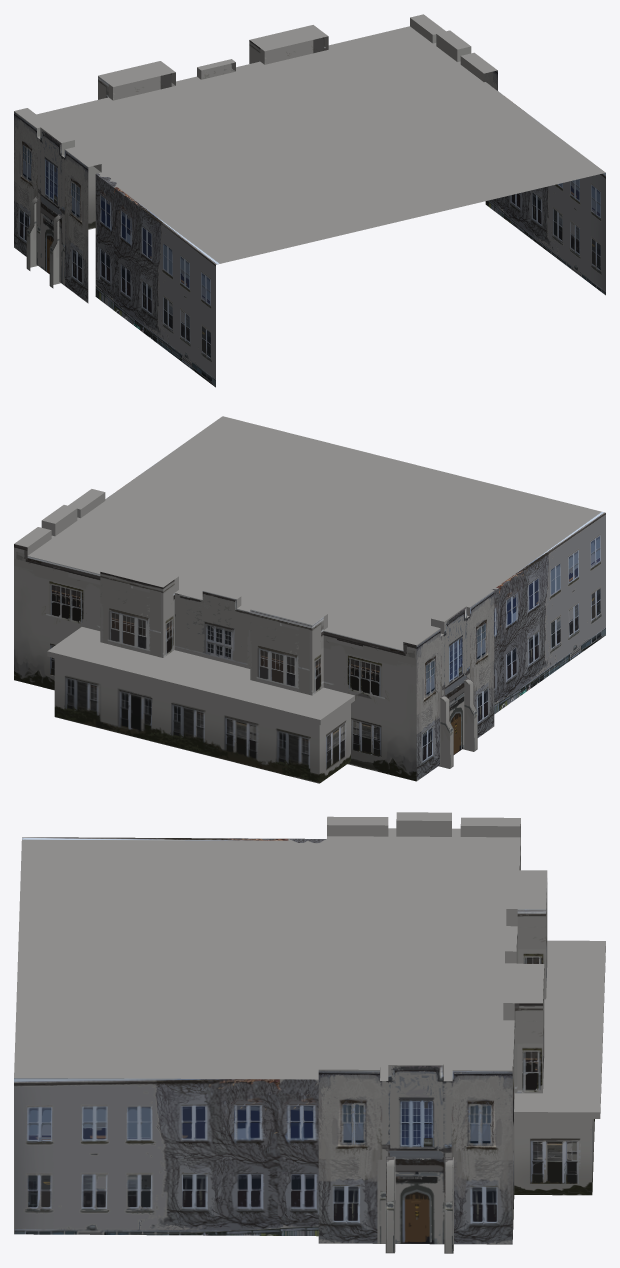
The model's file is Old_Admin_Bldg.obj.
The picture shows the model from 3 angles, top to bottom: view 1: azimuth 30°, elevation 25°; view 2: azimuth 150°, elevation 25°; view 3: azimuth 270°, elevation 25°; orthographic projection. The views are drawn at different scales.
Parts seen in each view (by area): view 1: Old_Admin_Bldg_2_Mesh.001, Old_Admin_Bldg_1_Mesh.001, Old_Admin_Bldg_6_Mesh.001, Old_Admin_Bldg_3_Mesh.001; view 2: Old_Admin_Bldg_1_Mesh.001, Old_Admin_Bldg_2_Mesh.001, Old_Admin_Bldg_4_Mesh.001, Old_Admin_Bldg_5_Mesh.001, Old_Admin_Bldg_6_Mesh.001, Old_Admin_Bldg_3_Mesh.001; view 3: Old_Admin_Bldg_2_Mesh.001, Old_Admin_Bldg_1_Mesh.001, Old_Admin_Bldg_5_Mesh.001, Old_Admin_Bldg_4_Mesh.001, Old_Admin_Bldg_8_Mesh.001, Old_Admin_Bldg_7_Mesh.001.
Part boxes in pixels (box(x1,y1,x2,y2)): Old_Admin_Bldg_2_Mesh.001: box(95, 82, 605, 387); Old_Admin_Bldg_1_Mesh.001: box(14, 14, 497, 303); Old_Admin_Bldg_6_Mesh.001: box(49, 214, 62, 288); Old_Admin_Bldg_3_Mesh.001: box(26, 196, 39, 270); Old_Admin_Bldg_1_Mesh.001: box(14, 489, 494, 781); Old_Admin_Bldg_2_Mesh.001: box(105, 416, 605, 714); Old_Admin_Bldg_4_Mesh.001: box(54, 658, 350, 783); Old_Admin_Bldg_5_Mesh.001: box(47, 627, 354, 724); Old_Admin_Bldg_6_Mesh.001: box(462, 677, 477, 751); Old_Admin_Bldg_3_Mesh.001: box(438, 694, 453, 768); Old_Admin_Bldg_2_Mesh.001: box(14, 837, 326, 1236); Old_Admin_Bldg_1_Mesh.001: box(318, 812, 547, 1244); Old_Admin_Bldg_5_Mesh.001: box(514, 940, 605, 1118); Old_Admin_Bldg_4_Mesh.001: box(514, 1118, 594, 1195); Old_Admin_Bldg_8_Mesh.001: box(385, 1156, 395, 1253); Old_Admin_Bldg_7_Mesh.001: box(444, 1157, 453, 1253).
Size of the model in its own units: 0.0249 by 0.00794 by 0.0234.
